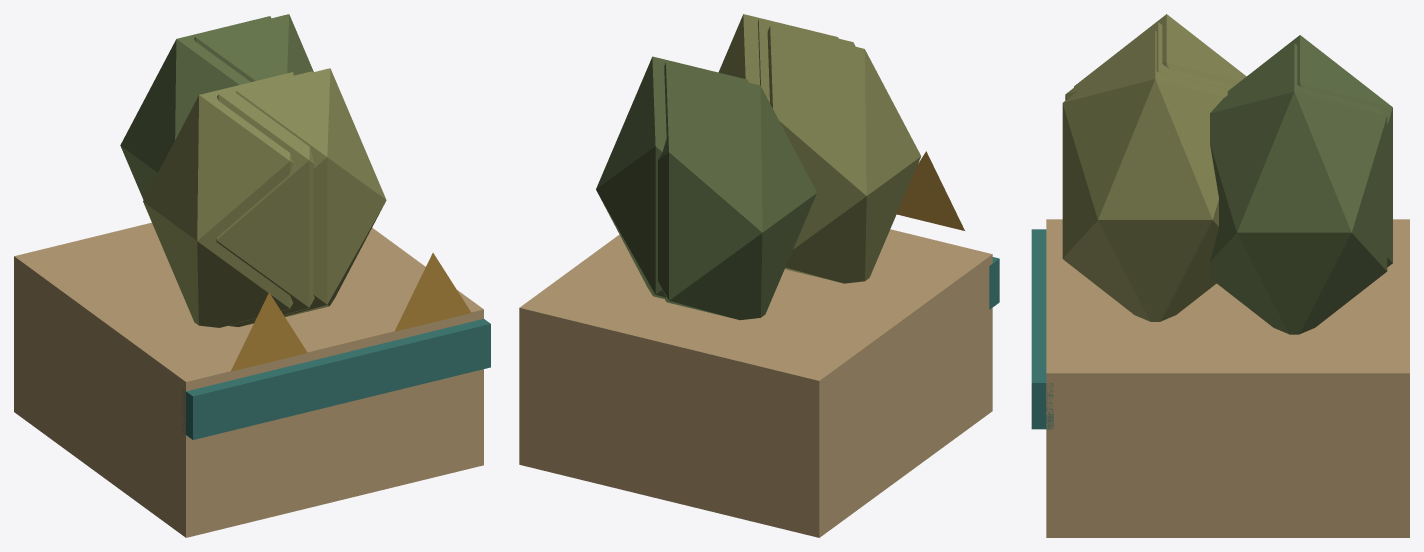
Rendered from courtyard-planter.glb.
3 views of the same model, side by side, from view 1: azimuth 30°, elevation 25°; view 2: azimuth 150°, elevation 25°; view 3: azimuth 270°, elevation 25° (orthographic). The views are drawn at different scales.
Parts seen in each view (by area): view 1: courtyard-planter-surface, wind-leaf-55-surface, wind-leaf-51-surface, wind-leaf-53-surface, wind-leaf-52-surface, wind-leaf-54-surface; view 2: courtyard-planter-surface, wind-leaf-52-surface, wind-leaf-55-surface, wind-leaf-54-surface, wind-leaf-51-surface, wind-leaf-53-surface; view 3: courtyard-planter-surface, wind-leaf-54-surface, wind-leaf-51-surface, wind-leaf-52-surface, wind-leaf-55-surface, wind-leaf-53-surface.
Part boxes in pixels (box(x1,y1,x2,y2)): courtyard-planter-surface: box(14, 222, 490, 537); wind-leaf-55-surface: box(143, 72, 294, 327); wind-leaf-51-surface: box(236, 68, 386, 316); wind-leaf-53-surface: box(216, 71, 314, 326); wind-leaf-52-surface: box(120, 16, 270, 199); wind-leaf-54-surface: box(194, 14, 313, 81); courtyard-planter-surface: box(519, 151, 999, 537); wind-leaf-52-surface: box(658, 62, 816, 320); wind-leaf-55-surface: box(767, 26, 921, 283); wind-leaf-54-surface: box(596, 56, 748, 298); wind-leaf-51-surface: box(718, 14, 838, 85); wind-leaf-53-surface: box(758, 19, 855, 102); courtyard-planter-surface: box(1031, 219, 1409, 537); wind-leaf-54-surface: box(1210, 43, 1387, 334); wind-leaf-51-surface: box(1062, 30, 1228, 321); wind-leaf-52-surface: box(1227, 35, 1392, 267); wind-leaf-55-surface: box(1074, 14, 1246, 87); wind-leaf-53-surface: box(1065, 22, 1234, 100).
Bounding box in the file's own units: 1.3 × 1.6 × 1.37.
